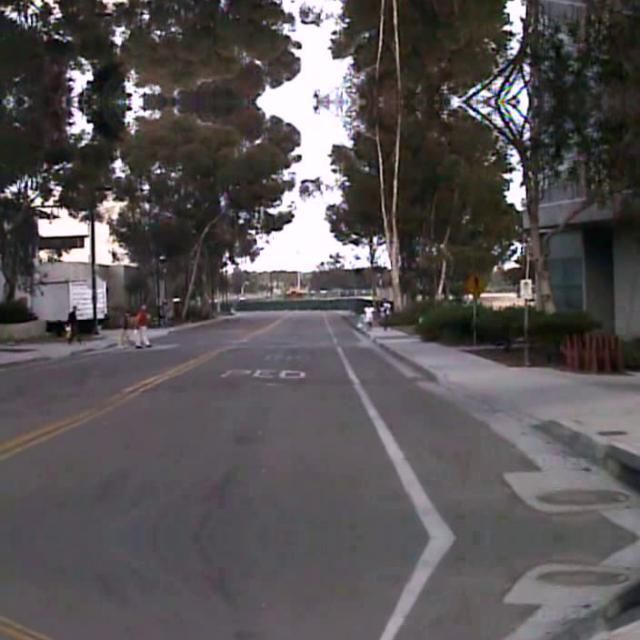pedestrianCrossing: (462, 268, 484, 296)
